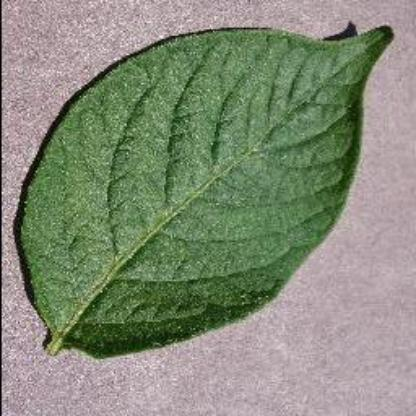Healthy-plant: (20, 20, 392, 364)
